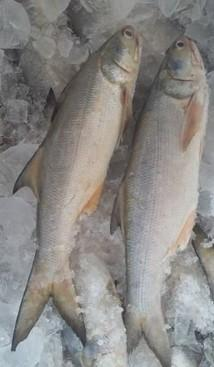Fourfinger Threadfish: (11, 25, 144, 350), (109, 32, 214, 367)
